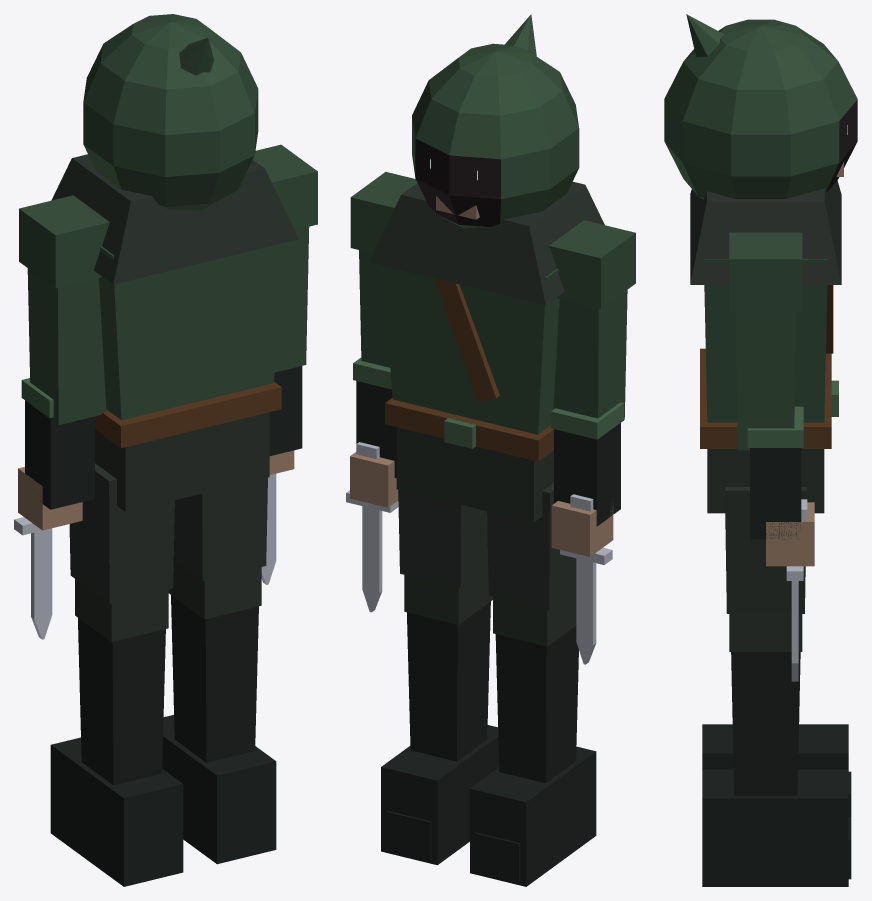
The model's file is rogue.glb.
3 renders of one model, left to right at view 1: azimuth 30°, elevation 25°; view 2: azimuth 150°, elevation 25°; view 3: azimuth 270°, elevation 25°, orthographic. The views are drawn at different scales.
Parts seen in each view (by area): view 1: Rogue_Body, Dagger_L, Dagger_R; view 2: Rogue_Body, Dagger_L, Dagger_R; view 3: Rogue_Body, Dagger_R.
Part boxes in pixels (<box>): Rogue_Body: <box>18,14,317,886</box>; Dagger_L: <box>14,517,52,639</box>; Dagger_R: <box>261,473,276,584</box>; Rogue_Body: <box>350,14,635,886</box>; Dagger_L: <box>560,494,612,664</box>; Dagger_R: <box>346,442,398,612</box>; Rogue_Body: <box>664,14,857,886</box>; Dagger_R: <box>786,499,807,681</box>.
Size of the model in its own units: 0.64 by 1.89 by 0.3968.
